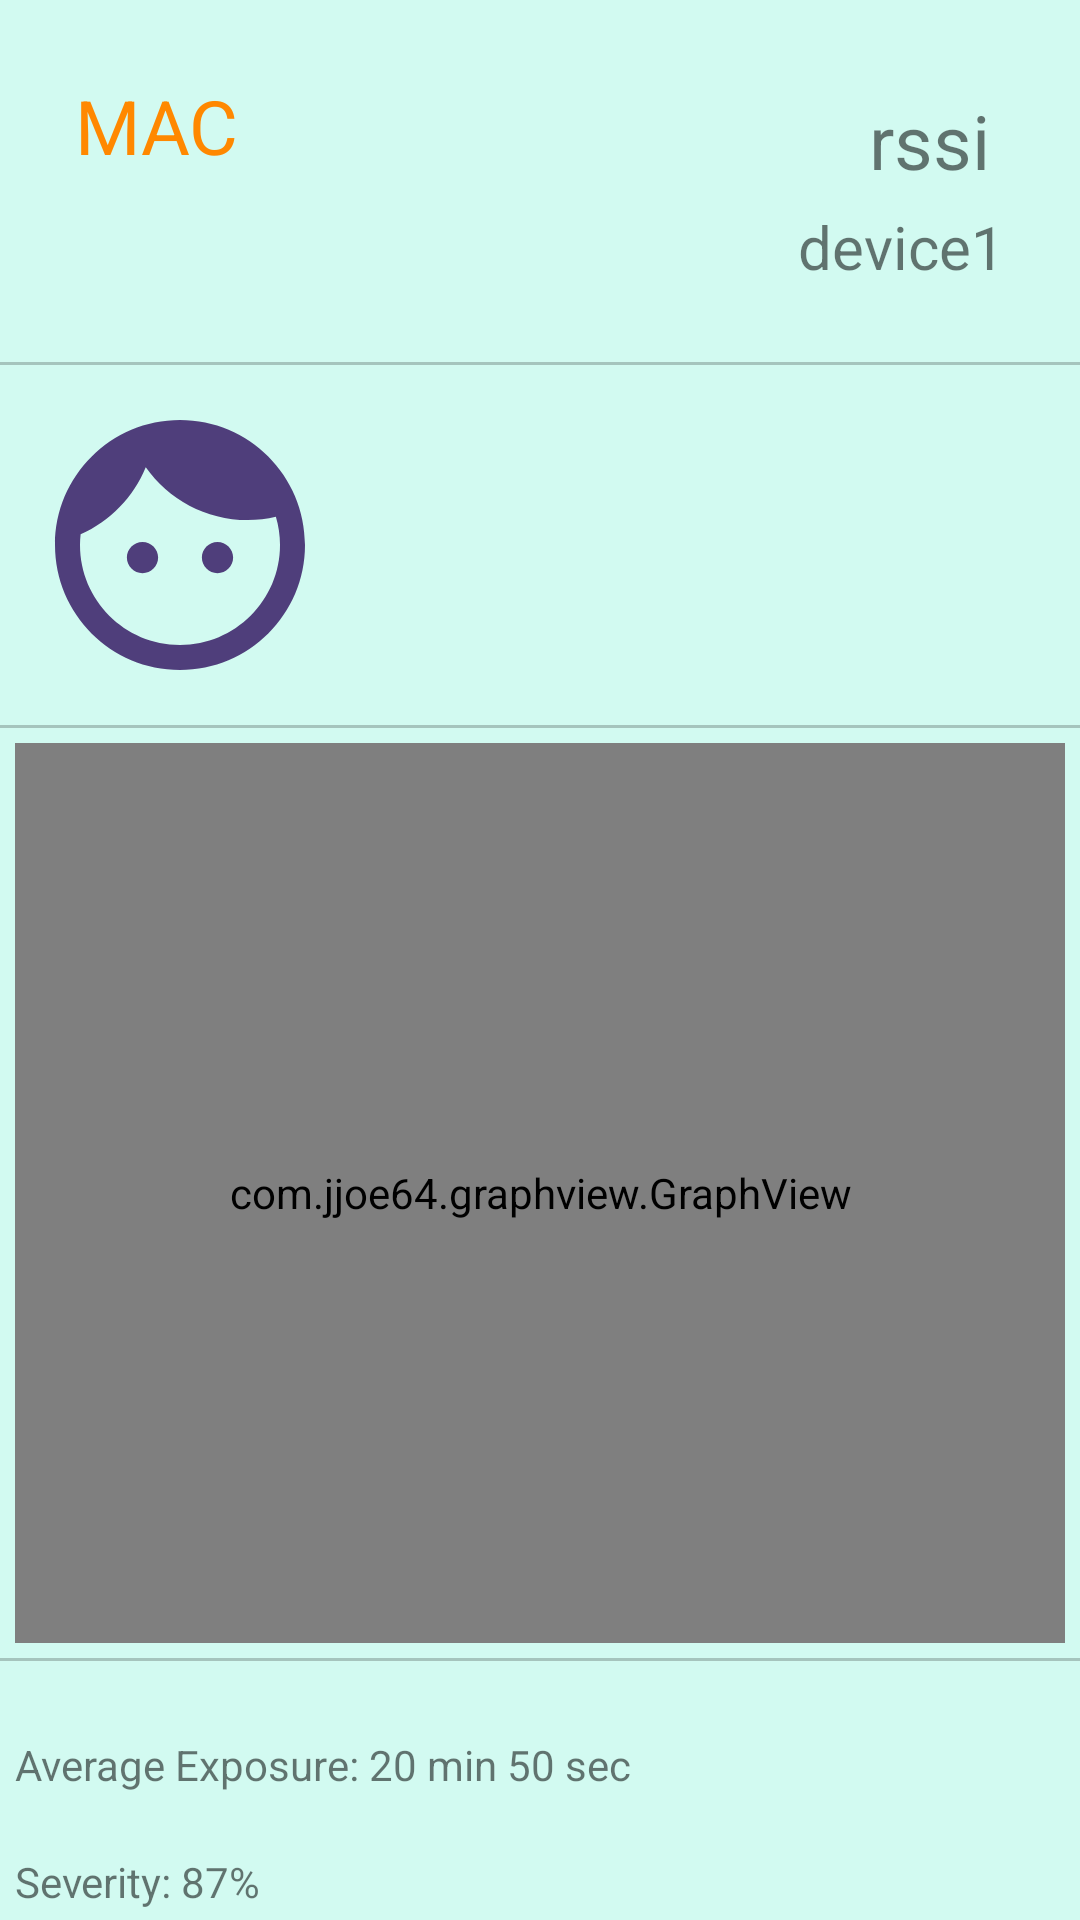

Locate icon controls on the screen. Image size 1080 x 1920, boxes as [x1=x1, y1=y1, x2=x2, y2=y2].
face: [x1=55, y1=420, x2=305, y2=670]
